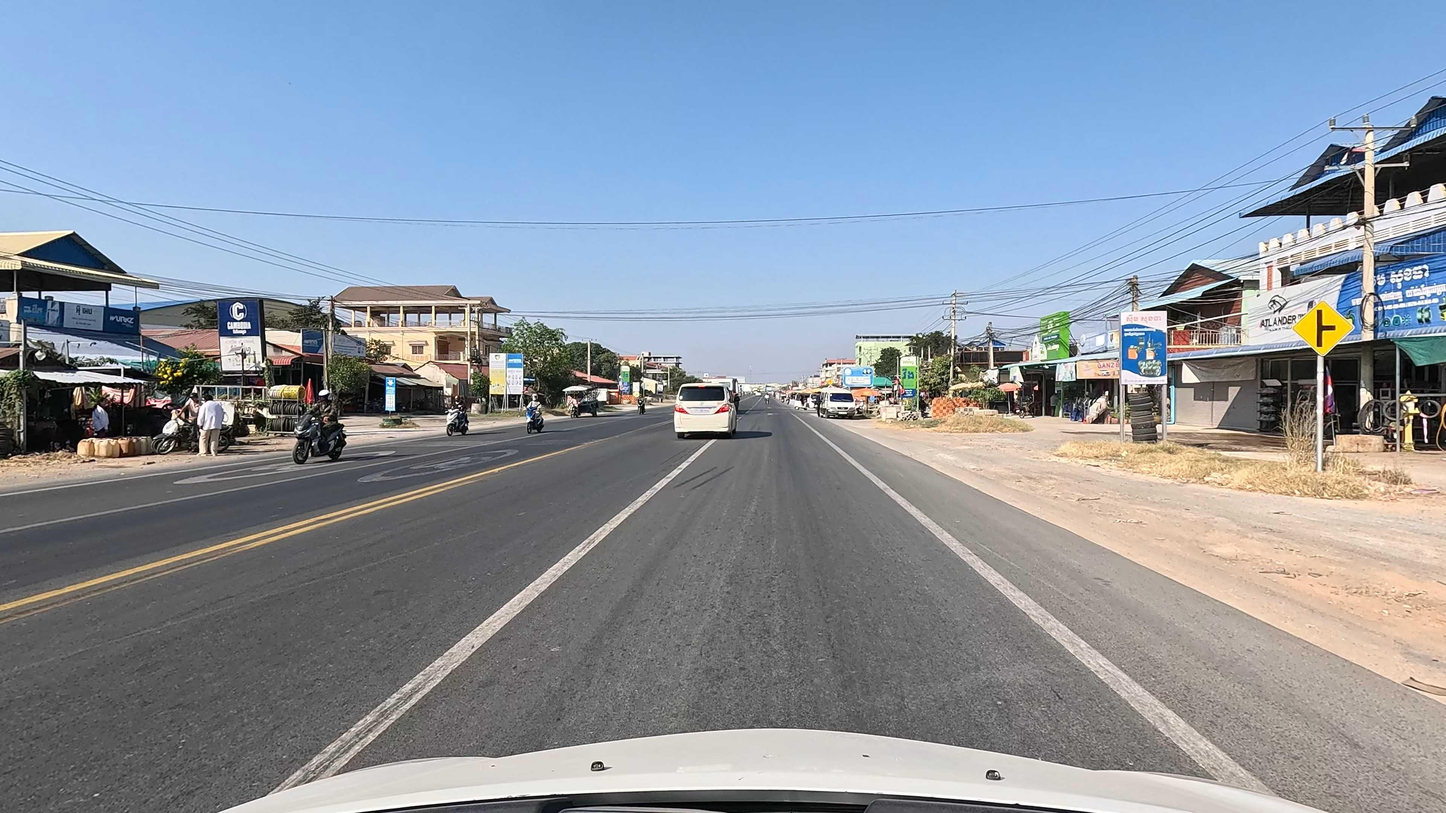side_road_junction_right: (1289, 301, 1357, 358)
